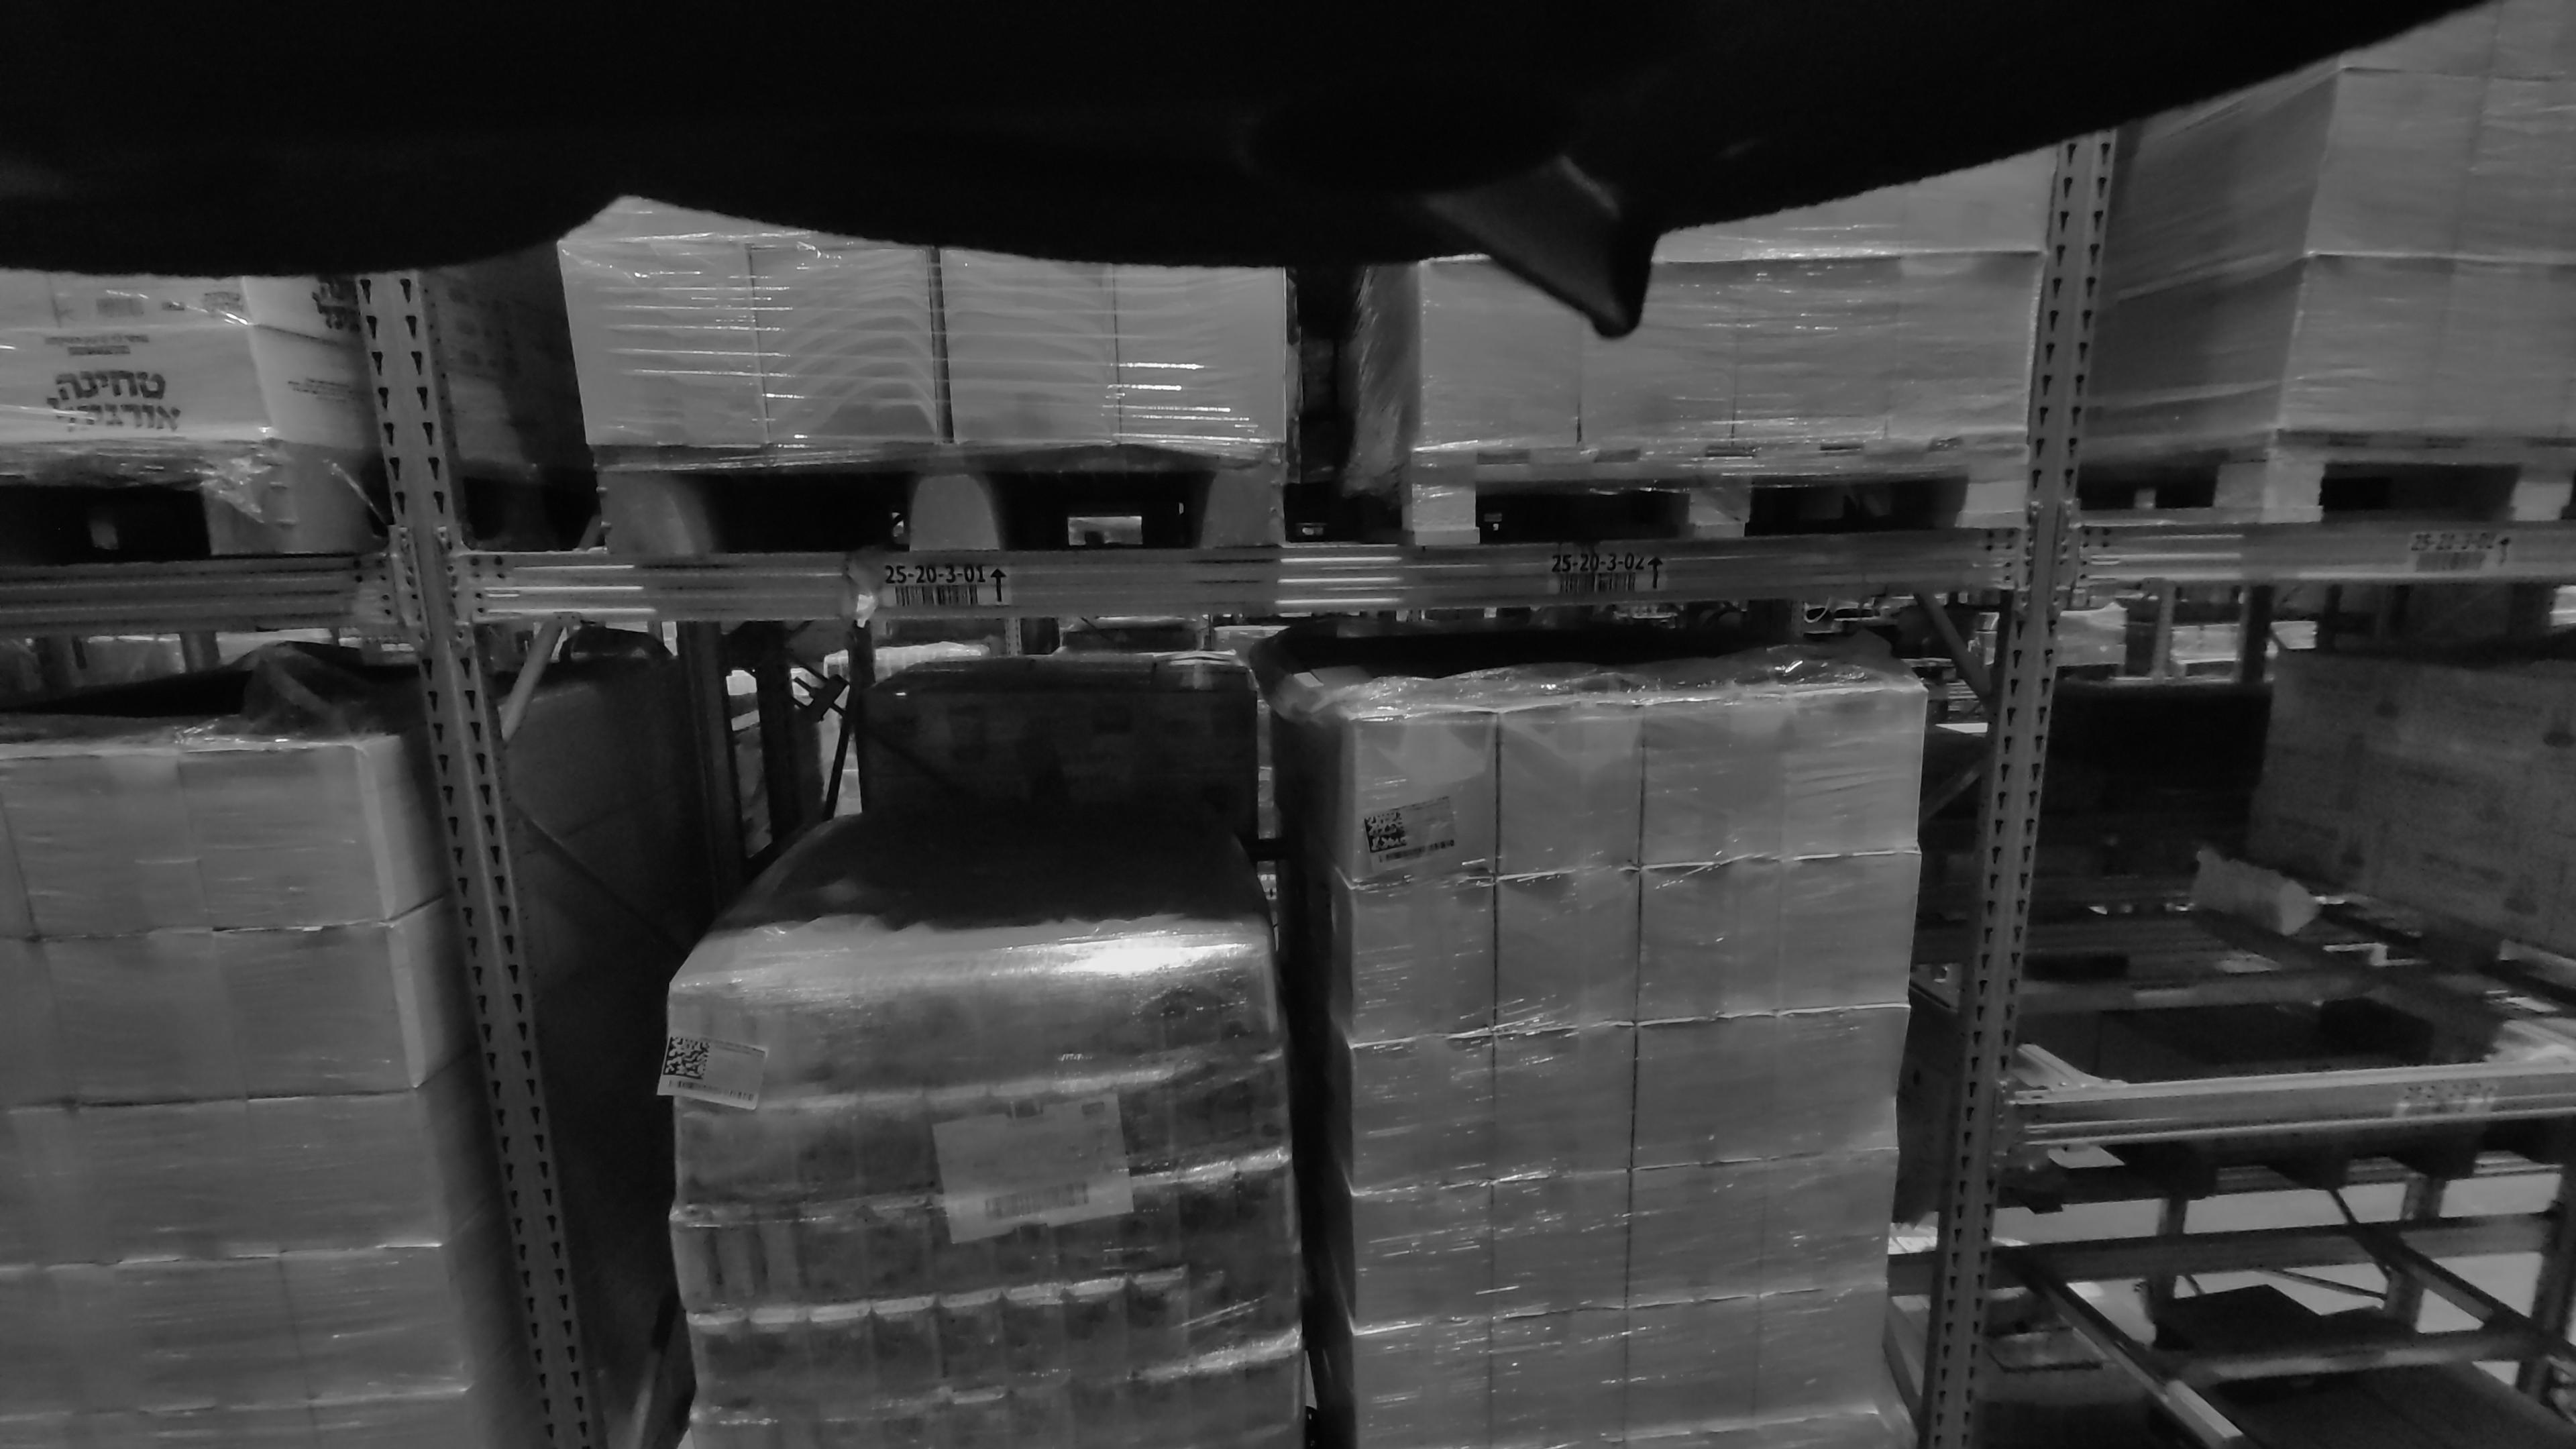empty-shelf: (2040, 607, 2509, 1065)
